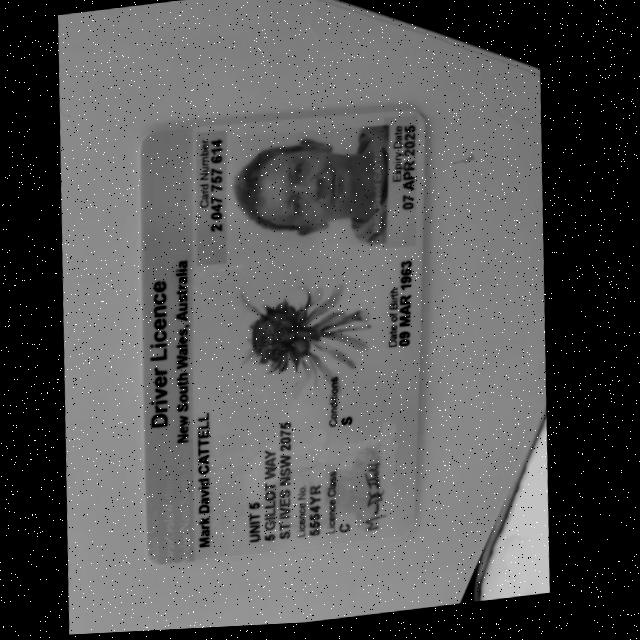card: (141, 112, 424, 563)
